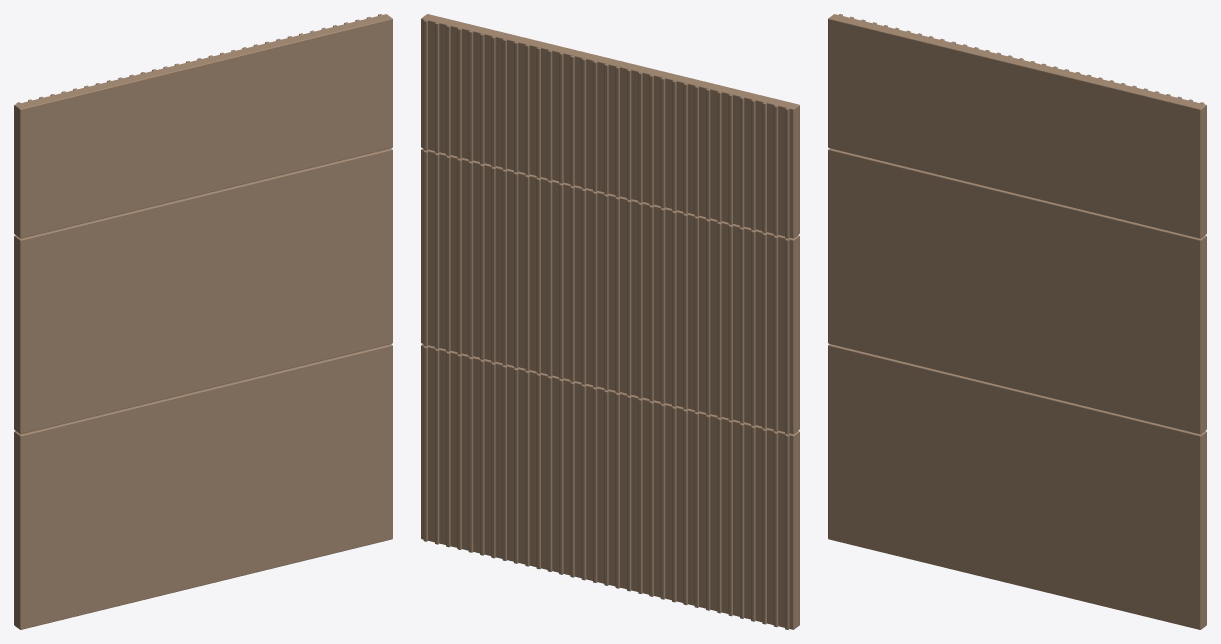
File: DRAWERS_3_600x800.glb
3 views of the same model, side by side, from view 1: azimuth 30°, elevation 25°; view 2: azimuth 150°, elevation 25°; view 3: azimuth 330°, elevation 25° (orthographic).
Parts seen in each view (by area): view 1: front_panel_02, front_panel_03, front_panel_01; view 2: front_panel_02, front_panel_03, front_panel_01, front_panel_03_rib_012, front_panel_02_rib_019, front_panel_03_rib_029, front_panel_02_rib_002, front_panel_02_rib_012, front_panel_02_rib_022, front_panel_03_rib_002, front_panel_03_rib_019, front_panel_03_rib_022 (+90 smaller); view 3: front_panel_02, front_panel_03, front_panel_01.
Boxes of the visible parts, box(x1,y1,x2,y2) form: front_panel_02: box(14, 148, 392, 434); front_panel_03: box(14, 344, 392, 629); front_panel_01: box(14, 14, 392, 238); front_panel_02: box(421, 148, 799, 433); front_panel_03: box(421, 344, 799, 629); front_panel_01: box(421, 14, 799, 238); front_panel_03_rib_012: box(660, 404, 665, 599); front_panel_02_rib_019: box(581, 189, 586, 384); front_panel_03_rib_029: box(468, 357, 473, 552); front_panel_02_rib_002: box(773, 236, 778, 431); front_panel_02_rib_012: box(660, 208, 665, 403); front_panel_02_rib_022: box(547, 181, 552, 376); front_panel_03_rib_002: box(773, 431, 778, 627); front_panel_03_rib_019: box(581, 385, 586, 580); front_panel_03_rib_022: box(547, 376, 552, 571); front_panel_02: box(828, 148, 1206, 434); front_panel_03: box(828, 344, 1206, 629); front_panel_01: box(828, 14, 1206, 238).
Bounding box in the file's own units: 0.596 × 0.796 × 0.022.
